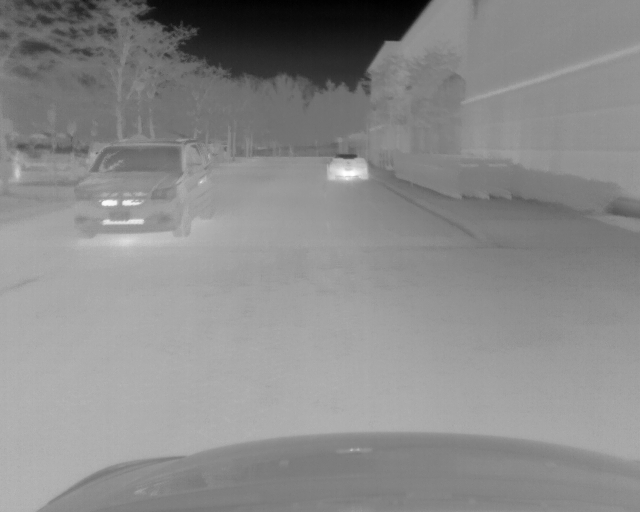car: (71, 140, 218, 238), (323, 153, 369, 184)
